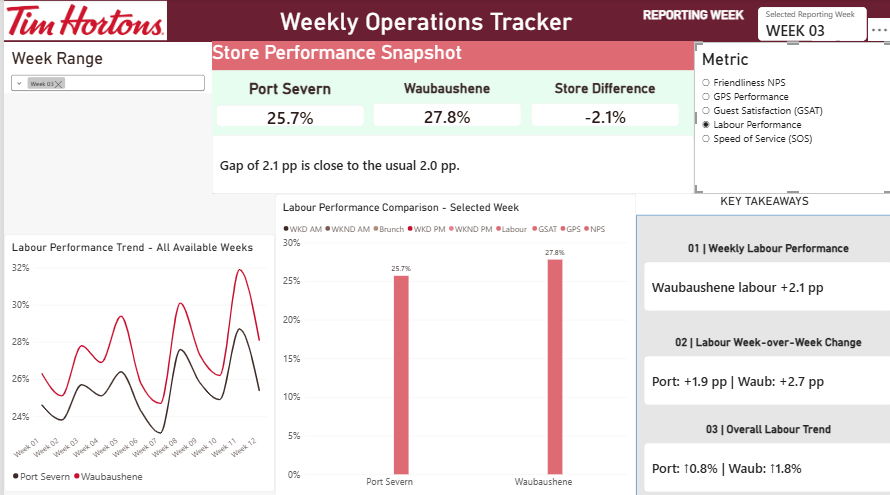

This screenshot's page, from the dashboard's own definition file:
{"tool":"powerbi","page":{"name":"Page 1","canvas":[1920,1080],"ordinal":0},"visuals":[{"type":"shape","box":[0,0,1920.2,92.9],"z":0},{"type":"image","box":[0,0,352.1,92.9],"z":1000},{"type":"textbox","title":"Weekly Operations Tracker","box":[499,17.3,825.1,75.6],"z":2000},{"type":"textbox","title":"REPORTING WEEK","box":[1276.6,17.3,425.5,56.2],"z":3000},{"type":"listSlicer","title":"Week Range","fields":{"Values":["Weekly_Operations_Data.Week_Label"]},"box":[0,92.9,449.3,110.2],"z":4000},{"type":"listSlicer","fields":{"Values":["Metrics Selector.Metric"]},"box":[1490.4,92.9,429.8,328.3],"z":5000},{"type":"cardVisual","fields":{"Data":["DAX Measures.Selected Reporting Week"]},"box":[1628.6,17.3,235.4,73.4],"z":6000},{"type":"shape","title":"Store Performance Snapshot","box":[449.3,90.7,1041.1,330.5],"z":7000},{"type":"cardVisual","fields":{"Data":["DAX Measures.Store Snapshot Interpretation"]},"box":[449.3,293.8,1041.1,127.4],"z":8000},{"type":"cardVisual","title":"Port Severn","fields":{"Data":["DAX Measures.Port Severn KPI"]},"box":[458,175,320,100],"z":9000},{"type":"cardVisual","title":"Waubaushene","fields":{"Data":["DAX Measures.Waubaushene KPI"]},"box":[798,175,320,100],"z":10000},{"type":"cardVisual","title":"Store Difference","fields":{"Data":["DAX Measures.Store Difference"]},"box":[1138,175,320,100],"z":11000},{"type":"clusteredColumnChart","fields":{"Category":["Weekly_Operations_Data.Store_Name"],"Y":["DAX Measures.WDAM SOS Comparison","DAX Measures.WEAM SOS Comparison","DAX Measures.Brunch SOS Comparison","DAX Measures.WDPM SOS Comparison","DAX Measures.WEPM SOS Comparison","DAX Measures.Labour Performance Comparison","DAX Measures.Guest Satisfaction Comparison","DAX Measures.GPS Performance Comparison","DAX Measures.Friendliness NPS Comparison"]},"box":[585.4,421.2,779.8,658.8],"z":12000},{"type":"lineChart","fields":{"Category":["Trend Week Axis.Week_Label"],"Series":["Weekly_Operations_Data.Store_Name"],"Y":["DAX Measures.Selected Metric Trend Value"]},"box":[0,507.6,585.4,557.3],"z":13000},{"type":"shape","title":" KEY TAKEAWAYS","box":[1365.1,421.2,555.1,658.8],"z":14000},{"type":"cardVisual","fields":{"Data":["DAX Measures.Store Performance Interpretation"]},"box":[1382.4,524.9,537.8,149],"z":15000},{"type":"cardVisual","fields":{"Data":["DAX Measures.Week-over-Week Insight"]},"box":[1382.4,727.9,537.8,149],"z":16000},{"type":"cardVisual","fields":{"Data":["DAX Measures.Performance Trend Insight Display"]},"box":[1382.4,915.8,537.8,149],"z":17000}]}

Visuals, with their boxes in screenshot pixels (x1, y1, x2, y2), scaled from the page's 1920x1080 canvas onto the 890x495 screenshot:
shape: [0,0,889,43]
image: [0,0,163,43]
"Weekly Operations Tracker" textbox: [231,8,614,43]
"REPORTING WEEK" textbox: [592,8,789,34]
"Week Range" listSlicer: [0,43,208,93]
listSlicer - Metrics Selector.Metric: [691,43,889,193]
cardVisual - DAX Measures.Selected Reporting Week: [755,8,864,42]
"Store Performance Snapshot" shape: [208,42,691,193]
cardVisual - DAX Measures.Store Snapshot Interpretation: [208,135,691,193]
"Port Severn" cardVisual: [212,80,361,126]
"Waubaushene" cardVisual: [370,80,518,126]
"Store Difference" cardVisual: [528,80,676,126]
clusteredColumnChart - Weekly_Operations_Data.Store_Name x DAX Measures.WDAM SOS Comparison: [271,193,633,494]
lineChart - Trend Week Axis.Week_Label x Weekly_Operations_Data.Store_Name: [0,233,271,488]
" KEY TAKEAWAYS" shape: [633,193,889,494]
cardVisual - DAX Measures.Store Performance Interpretation: [641,241,889,309]
cardVisual - DAX Measures.Week-over-Week Insight: [641,334,889,402]
cardVisual - DAX Measures.Performance Trend Insight Display: [641,420,889,488]
